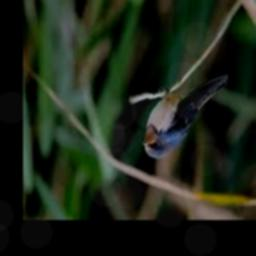Swallow: (144, 75, 231, 158)
